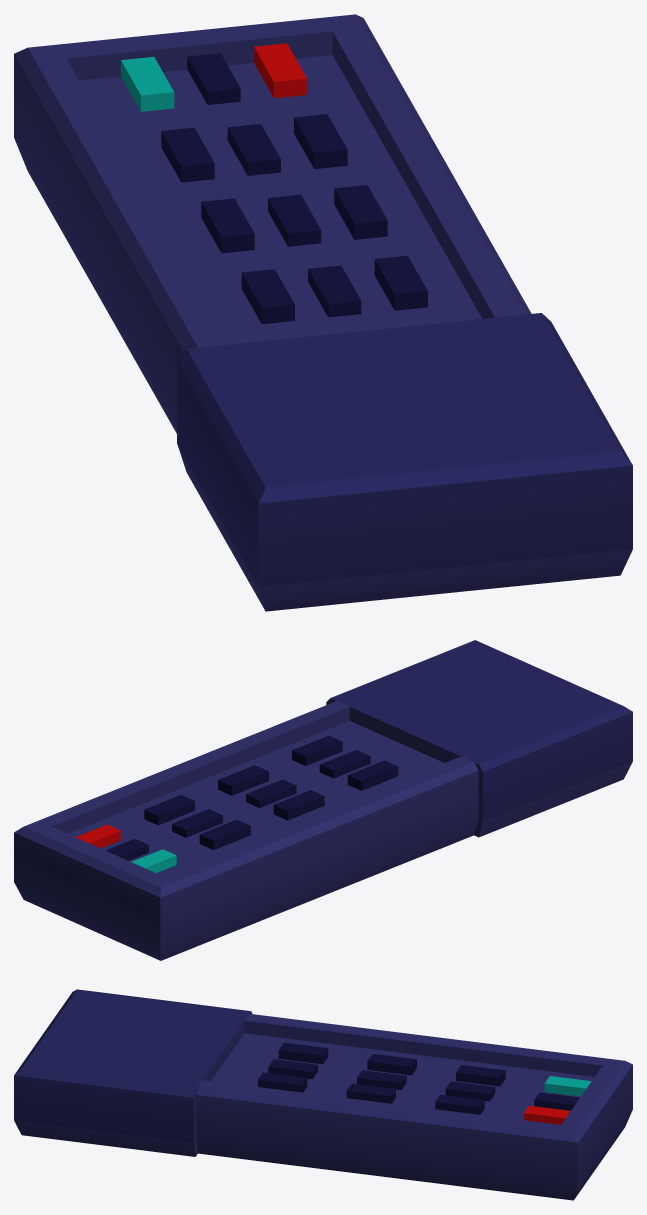
The picture shows the model from 3 angles, top to bottom: view 1: azimuth 30°, elevation 25°; view 2: azimuth 150°, elevation 25°; view 3: azimuth 270°, elevation 25°; orthographic projection. The views are drawn at different scales.
Visible parts, largest first — view 1: Joint_0_Object_0, Joint_0_Object_1; view 2: Joint_0_Object_0, Joint_0_Object_1; view 3: Joint_0_Object_0, Joint_0_Object_1.
Part boxes in pixels (x1,y1,x2,y2): Joint_0_Object_0: [14, 14, 632, 611]; Joint_0_Object_1: [121, 43, 427, 324]; Joint_0_Object_0: [14, 640, 632, 960]; Joint_0_Object_1: [75, 735, 398, 873]; Joint_0_Object_0: [14, 989, 632, 1200]; Joint_0_Object_1: [258, 1042, 591, 1124].
Bounding box in the file's own units: 209 × 42.97 × 363.
